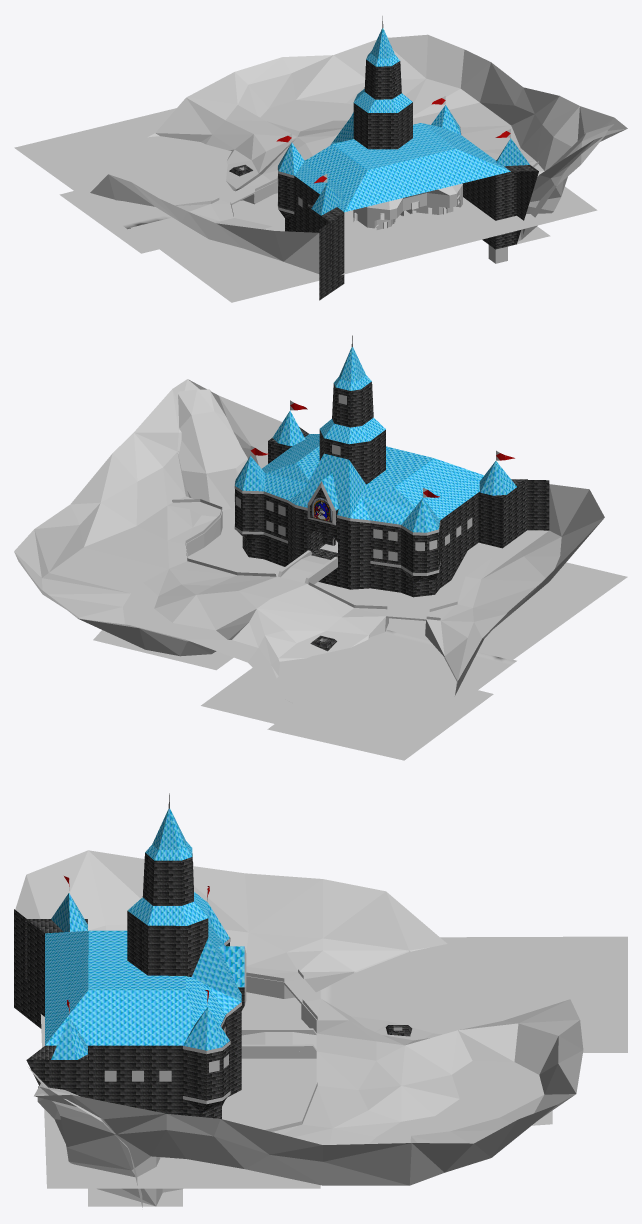
Rendered from castillo.fbx.
3 renders of one model, top to bottom at view 1: azimuth 30°, elevation 25°; view 2: azimuth 150°, elevation 25°; view 3: azimuth 270°, elevation 25°, orthographic. The views are drawn at different scales.
Parts seen in each view (by area): view 1: Shape_IndexedFaceSet_136_Shape_IndexedFaceSet.258, Shape_IndexedFaceSet_137_Shape_IndexedFaceSet.001, Shape_IndexedFaceSet_137_Shape_IndexedFaceSet.259, Shape_IndexedFaceSet; view 2: Shape_IndexedFaceSet_136_Shape_IndexedFaceSet.258, Shape_IndexedFaceSet_137_Shape_IndexedFaceSet.259, Shape_IndexedFaceSet_137_Shape_IndexedFaceSet.001; view 3: Shape_IndexedFaceSet_136_Shape_IndexedFaceSet.258, Shape_IndexedFaceSet_137_Shape_IndexedFaceSet.259, Shape_IndexedFaceSet_137_Shape_IndexedFaceSet.001.
Part boxes in pixels (bbox=[...]): Shape_IndexedFaceSet_136_Shape_IndexedFaceSet.258: bbox=[59, 16, 627, 300]; Shape_IndexedFaceSet_137_Shape_IndexedFaceSet.001: bbox=[130, 186, 597, 302]; Shape_IndexedFaceSet_137_Shape_IndexedFaceSet.259: bbox=[14, 108, 254, 229]; Shape_IndexedFaceSet: bbox=[353, 183, 462, 229]; Shape_IndexedFaceSet_136_Shape_IndexedFaceSet.258: bbox=[14, 335, 604, 760]; Shape_IndexedFaceSet_137_Shape_IndexedFaceSet.259: bbox=[201, 629, 516, 752]; Shape_IndexedFaceSet_137_Shape_IndexedFaceSet.001: bbox=[187, 508, 627, 660]; Shape_IndexedFaceSet_136_Shape_IndexedFaceSet.258: bbox=[14, 793, 583, 1207]; Shape_IndexedFaceSet_137_Shape_IndexedFaceSet.259: bbox=[320, 936, 627, 1052]; Shape_IndexedFaceSet_137_Shape_IndexedFaceSet.001: bbox=[40, 990, 320, 1188].
Bounding box in the file's own units: 9998 × 5977 × 9638.
